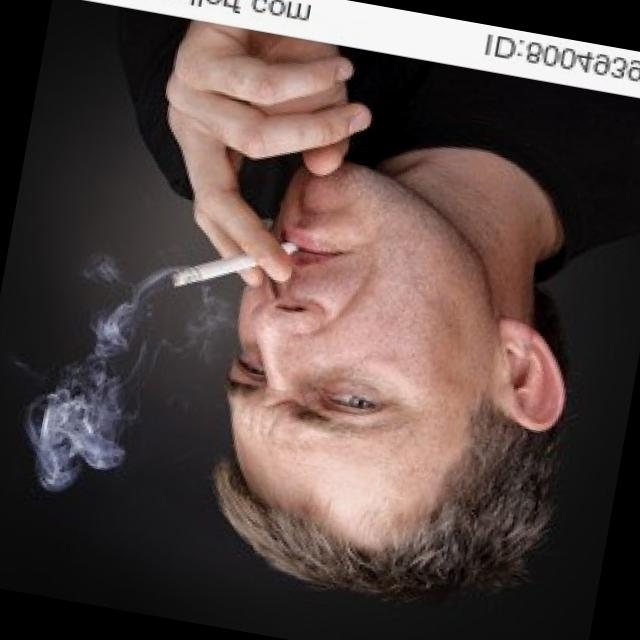cigarette: (165, 215, 301, 308)
